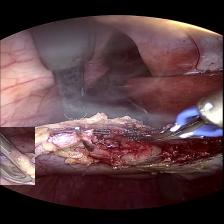Bipolar: (146, 96, 224, 148)
Grasper: (0, 126, 35, 184)
